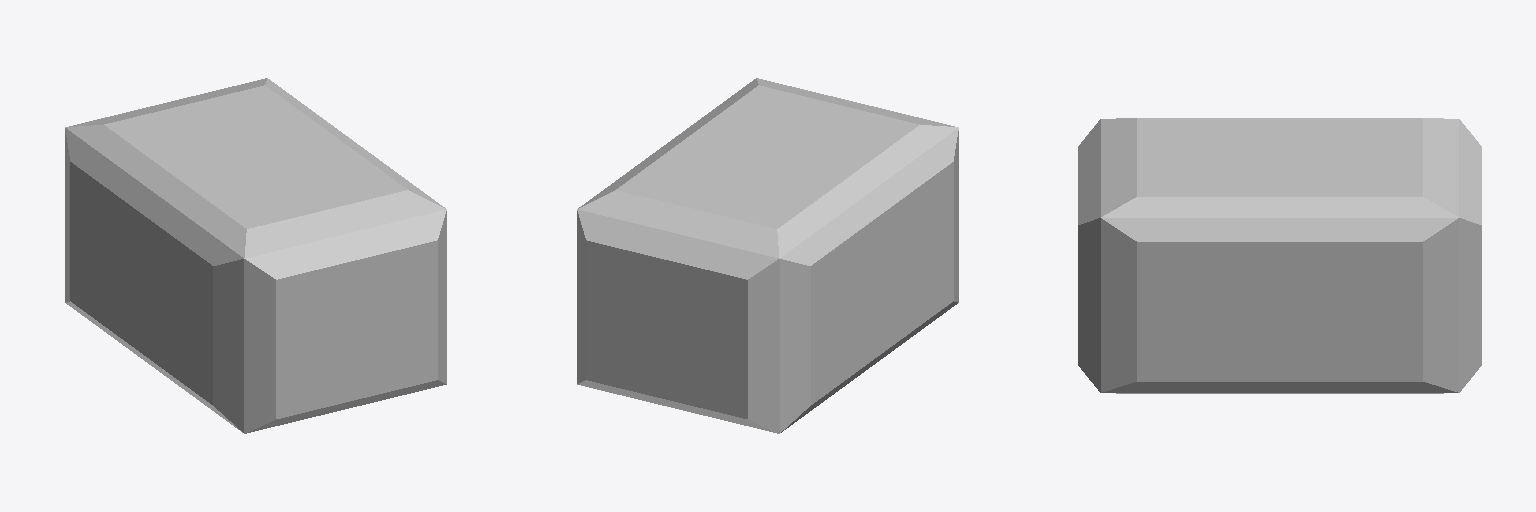
The model's file is tile_low.obj.
3 renders of one model, left to right at view 1: azimuth 30°, elevation 25°; view 2: azimuth 150°, elevation 25°; view 3: azimuth 270°, elevation 25°, orthographic.
Visible parts, largest first — view 1: Cube.001; view 2: Cube.001; view 3: Cube.001.
Part boxes in pixels (bbox=[...]): Cube.001: bbox=[65, 78, 446, 433]; Cube.001: bbox=[577, 78, 958, 433]; Cube.001: bbox=[1078, 118, 1481, 393].
Bounding box in the file's own units: 0.356 × 0.2944 × 0.5463.